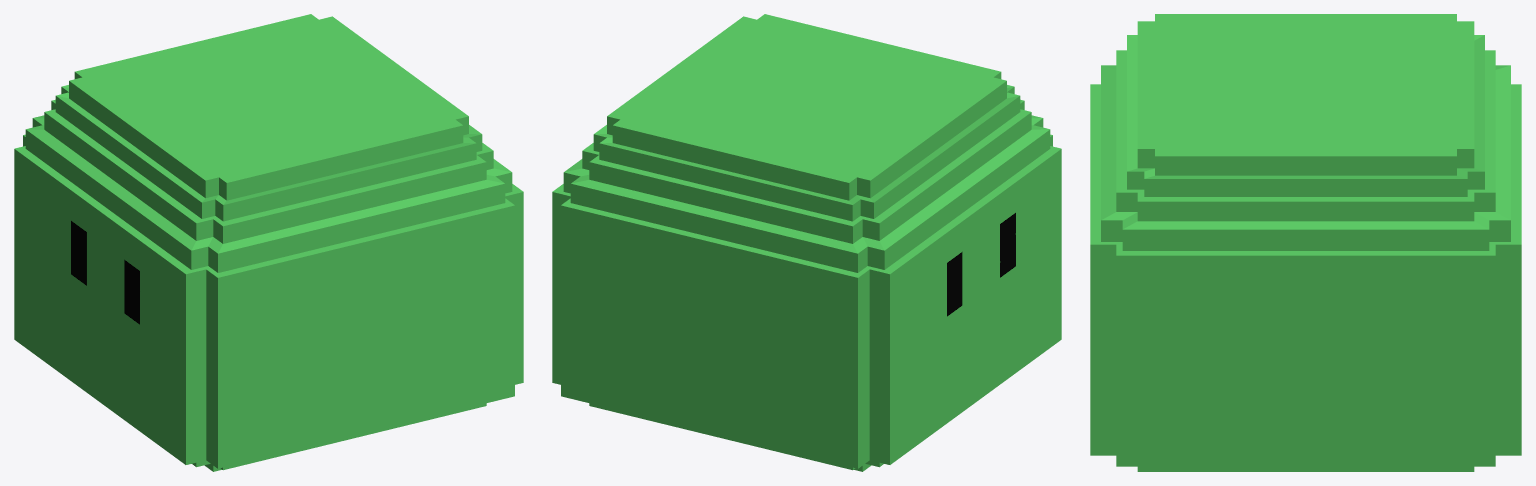
Rendered from Slime.fbx.
3 renders of one model, left to right at view 1: azimuth 30°, elevation 25°; view 2: azimuth 150°, elevation 25°; view 3: azimuth 270°, elevation 25°, orthographic. The views are drawn at different scales.
Parts seen in each view (by area): view 1: 큐브; view 2: 큐브; view 3: 큐브.
Part boxes in pixels (x1=…): 큐브: x1=14, y1=14, x2=523, y2=471; 큐브: x1=552, y1=14, x2=1061, y2=471; 큐브: x1=1090, y1=14, x2=1521, y2=471.
Size of the model in its own units: 100 by 80.8 by 100.
1 material, 1 textured.
